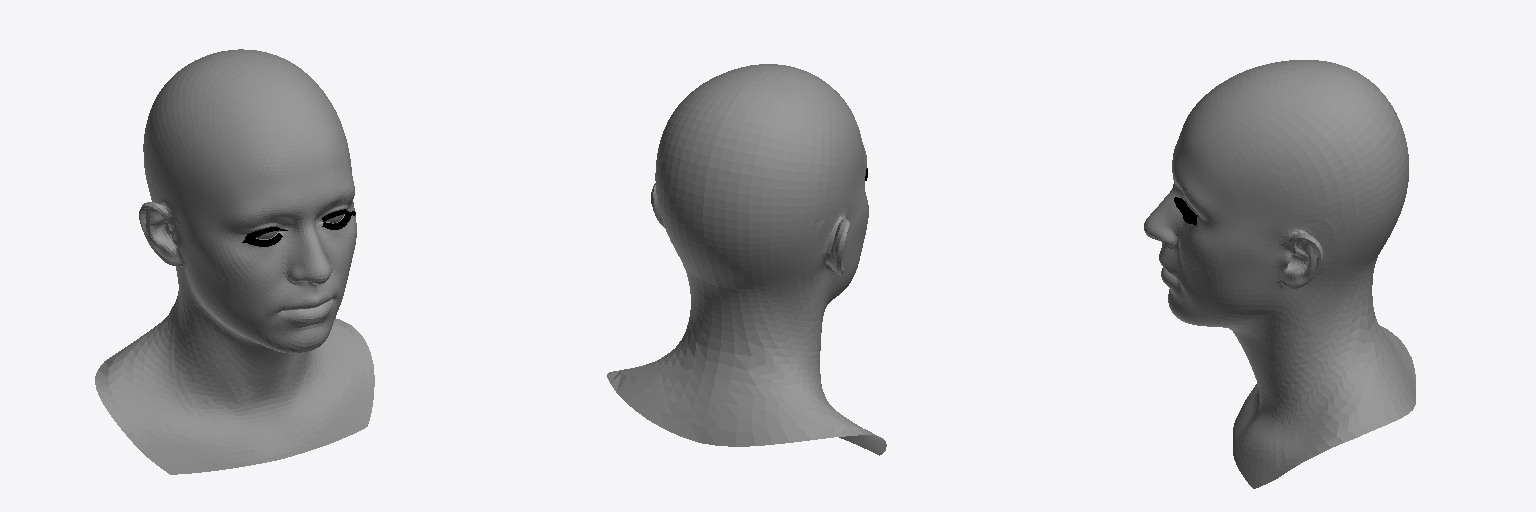
Rendered from identity034.obj.
3 renders of one model, left to right at view 1: azimuth 30°, elevation 25°; view 2: azimuth 150°, elevation 25°; view 3: azimuth 270°, elevation 25°, orthographic.
Size of the model in its own units: 24.82 by 33.81 by 22.37.